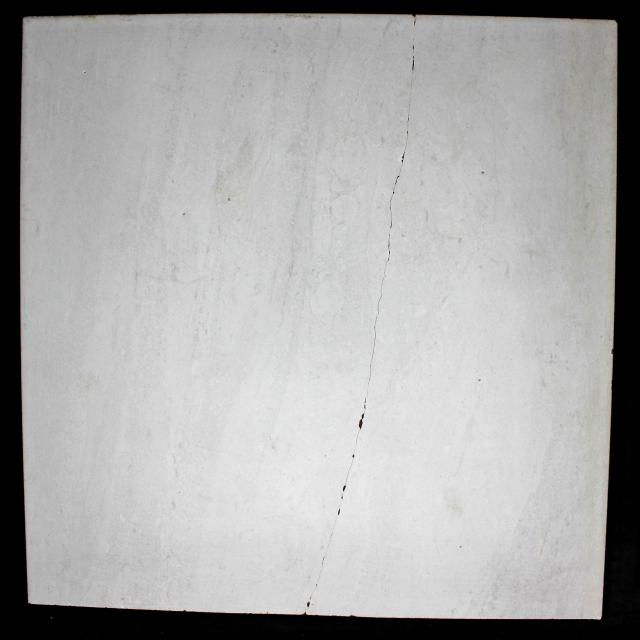edge-chipping: (610, 348, 614, 355), (349, 614, 356, 617), (302, 612, 307, 615), (412, 14, 416, 17)
hole: (358, 419, 363, 429), (342, 485, 347, 492), (480, 170, 486, 175), (306, 601, 310, 608), (227, 198, 231, 202), (478, 378, 482, 382), (83, 71, 87, 74), (352, 454, 355, 458), (341, 496, 343, 499)
line: (363, 332, 378, 412), (372, 264, 388, 331), (321, 516, 339, 565), (387, 164, 404, 205), (308, 565, 324, 601), (405, 72, 414, 135), (385, 206, 393, 263), (344, 459, 354, 484), (353, 430, 361, 452), (404, 136, 408, 151)
